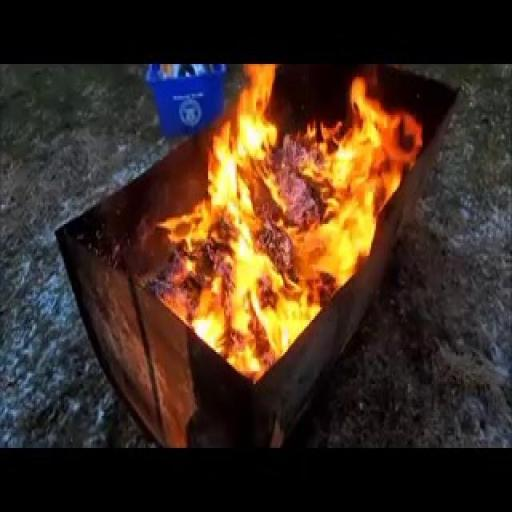smoke: (136, 66, 402, 388)
